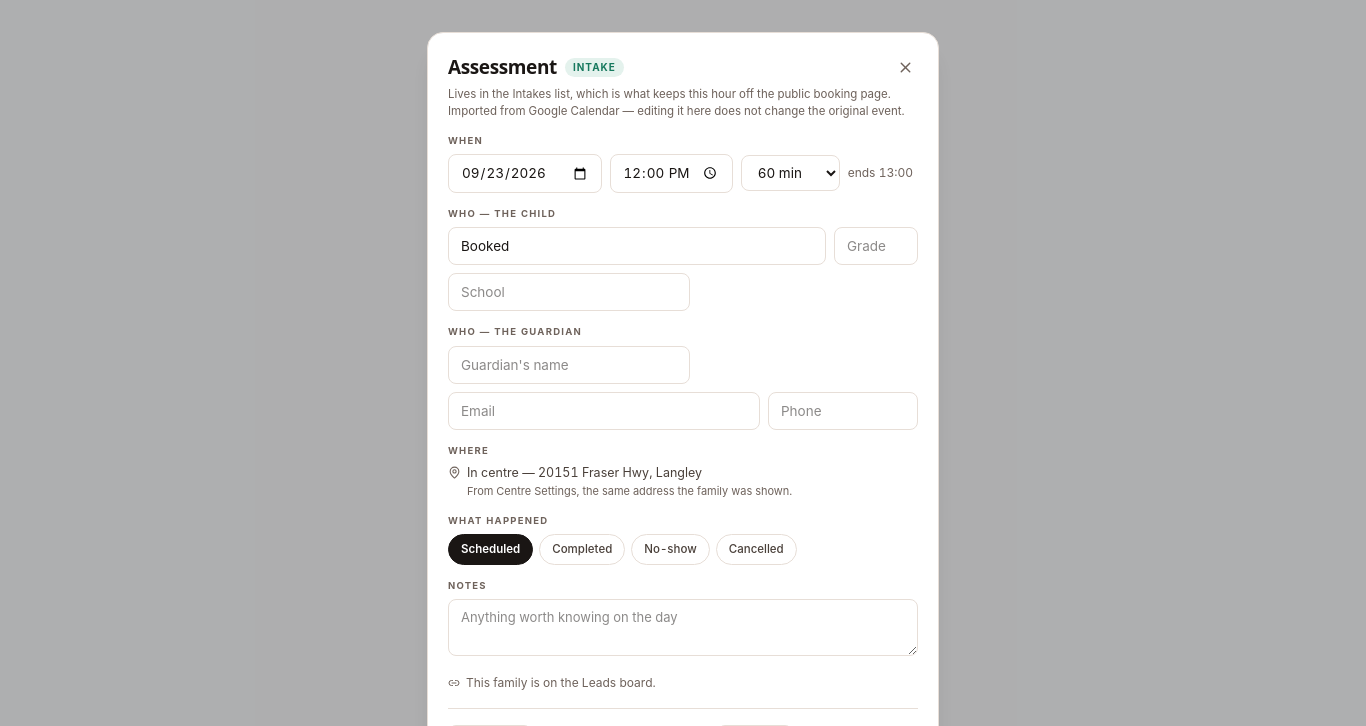
Test case: status and deleting › explains what cancelling actually does
The image size is (1366, 726).
Click the button "Cancelled".
click(756, 549)  # box [716,534,797,565]
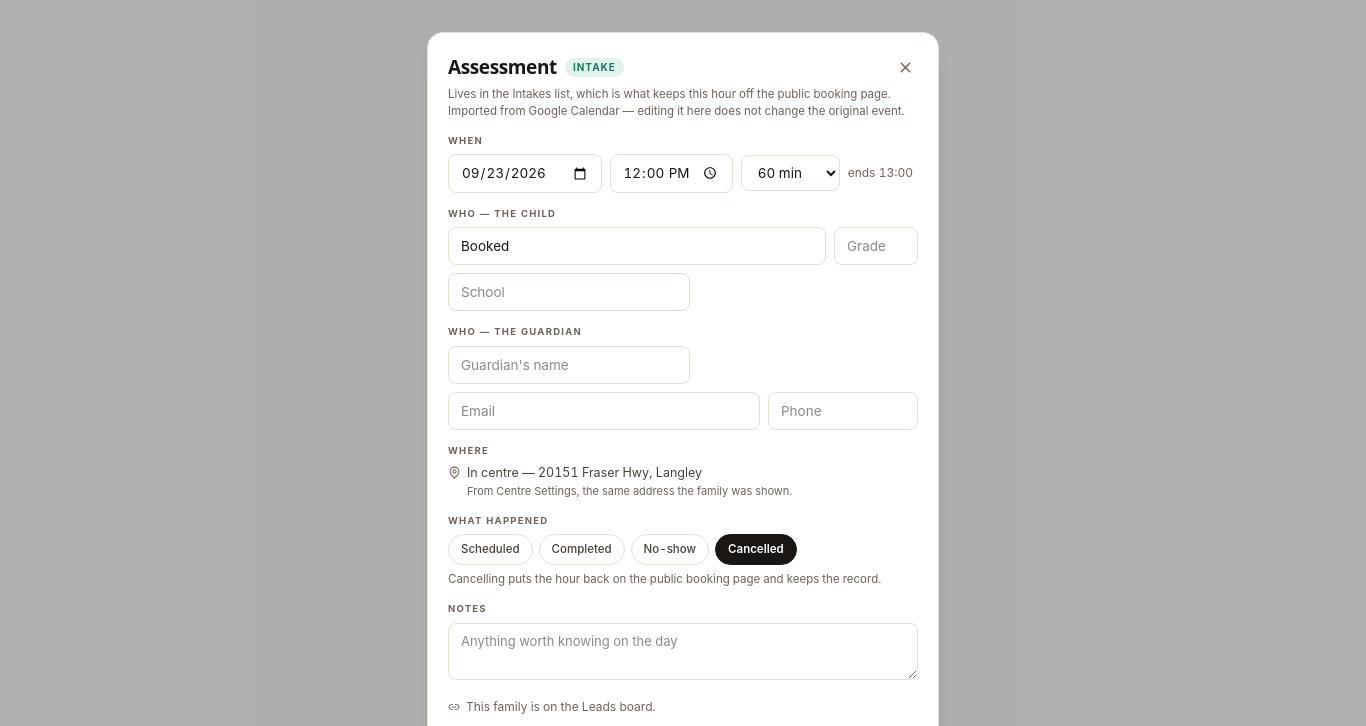
expect the text "puts the hour back on the public booking page" is shown: met, box [448,572,881,586]
